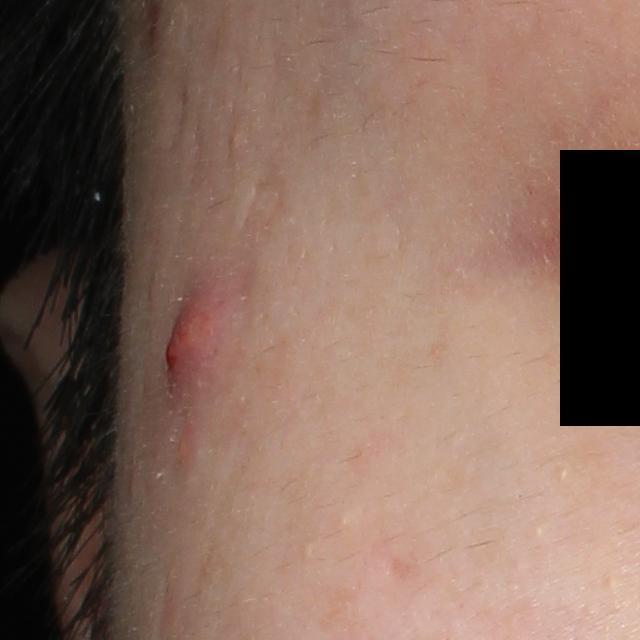atrophic_scar: (240, 155, 280, 228)
papule: (159, 298, 218, 395)
